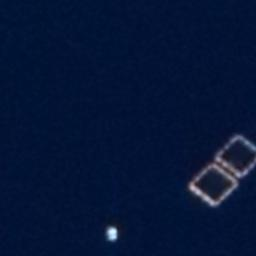square_solid: (187, 161, 240, 209), (214, 132, 256, 180)
